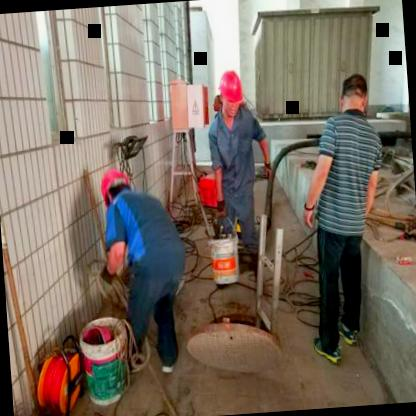helmet: (216, 67, 245, 122), (96, 168, 134, 209)
